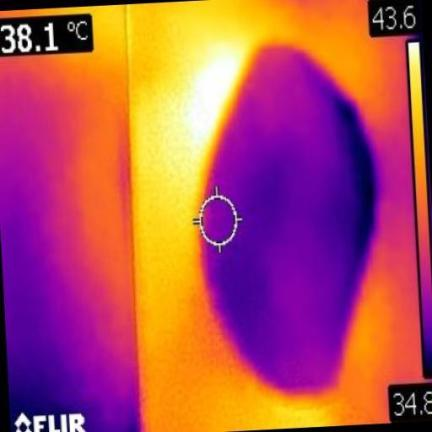mango: (201, 46, 373, 392)
